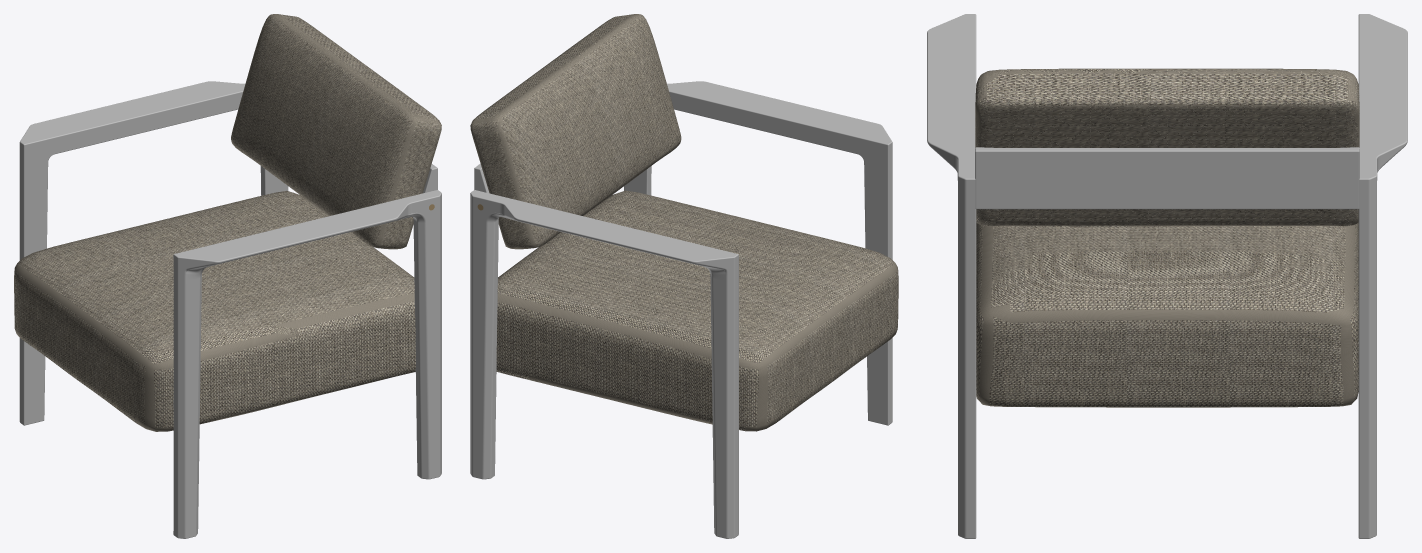
File: uniarmchair.glb
The picture shows the model from 3 angles, left to right: view 1: azimuth 30°, elevation 25°; view 2: azimuth 150°, elevation 25°; view 3: azimuth 270°, elevation 25°; orthographic projection. The views are drawn at different scales.
Visible parts, largest first — view 1: unichair.001, unichair; view 2: unichair.001, unichair; view 3: unichair.001, unichair.
Boxes of the visible parts, left/top/right/bottom form: unichair.001: left=14, top=14, right=441, bottom=431; unichair: left=19, top=81, right=441, bottom=538; unichair.001: left=470, top=14, right=898, bottom=431; unichair: left=470, top=81, right=892, bottom=538; unichair.001: left=975, top=68, right=1359, bottom=407; unichair: left=927, top=14, right=1407, bottom=538.
Bounding box in the file's own units: 0.7039 × 0.8193 × 0.78.
3 materials, 1 textured.
